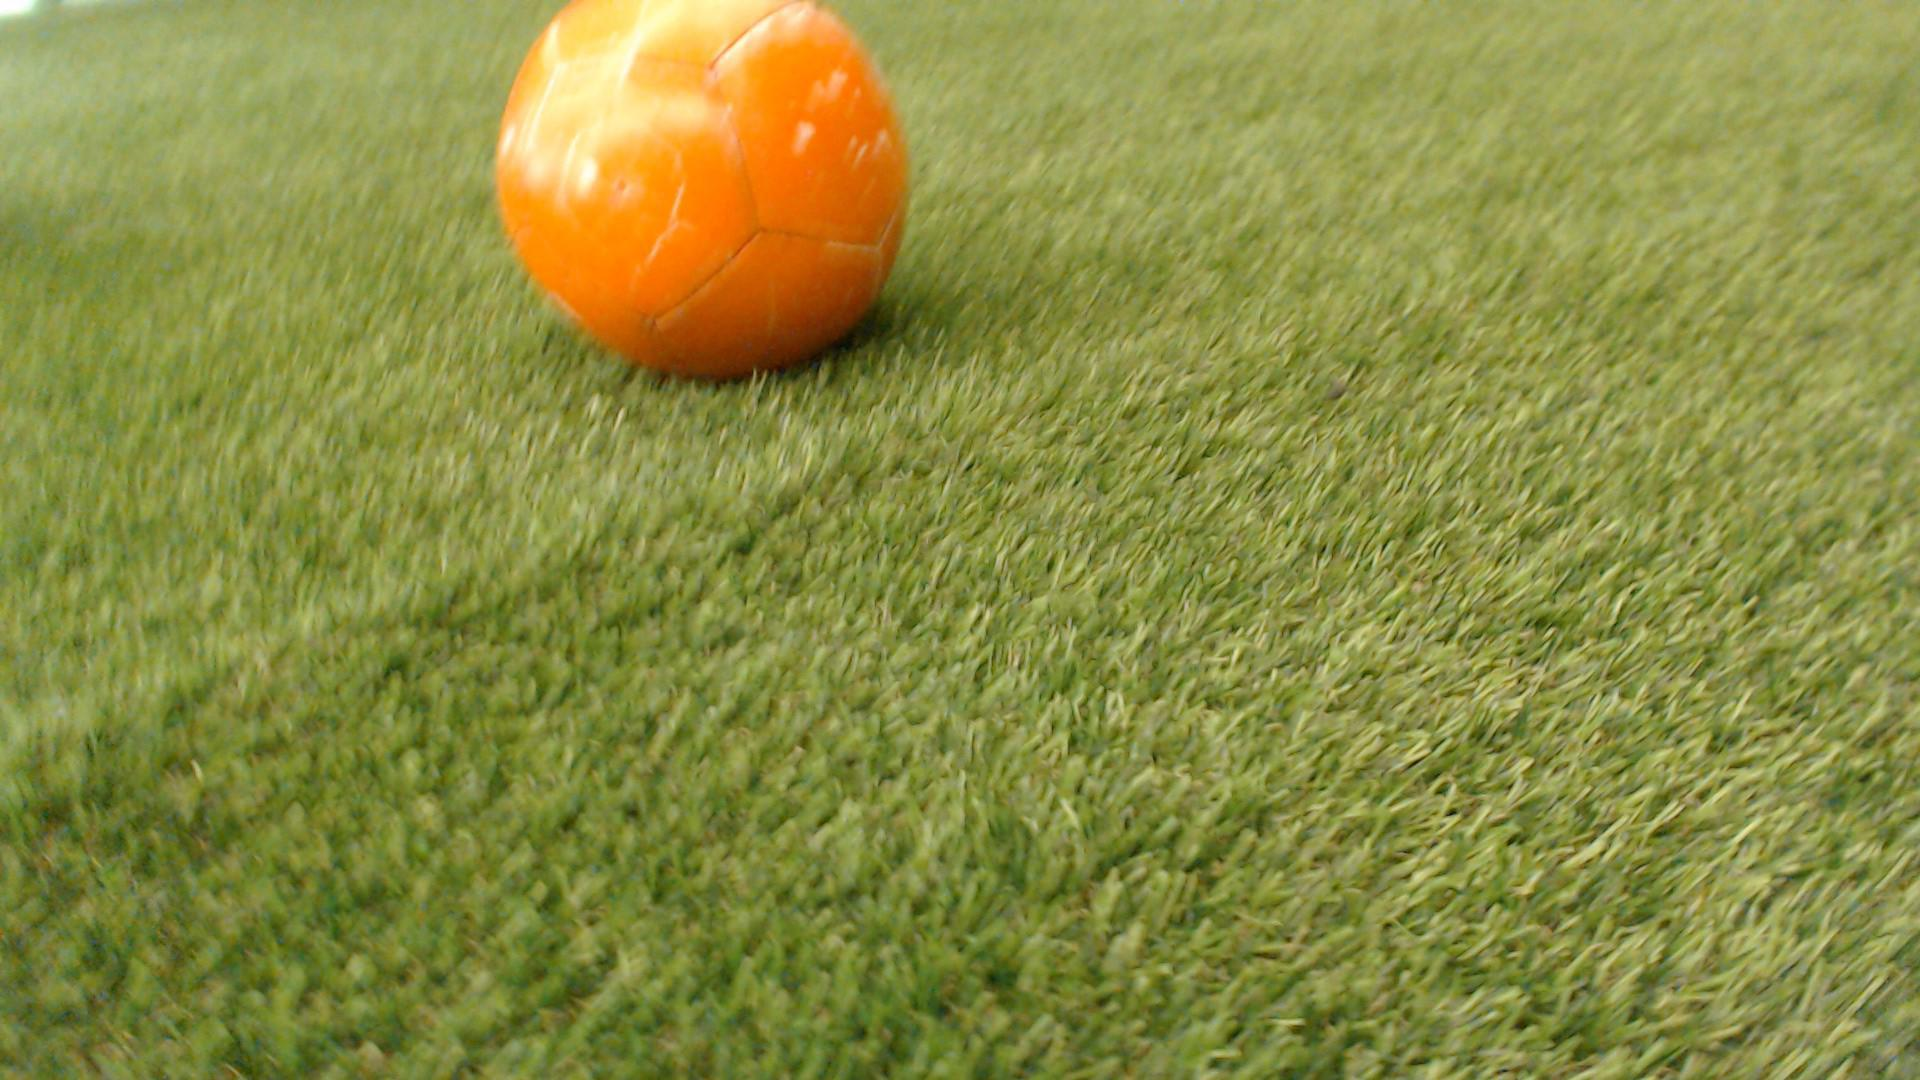bola: (481, 0, 945, 393)
